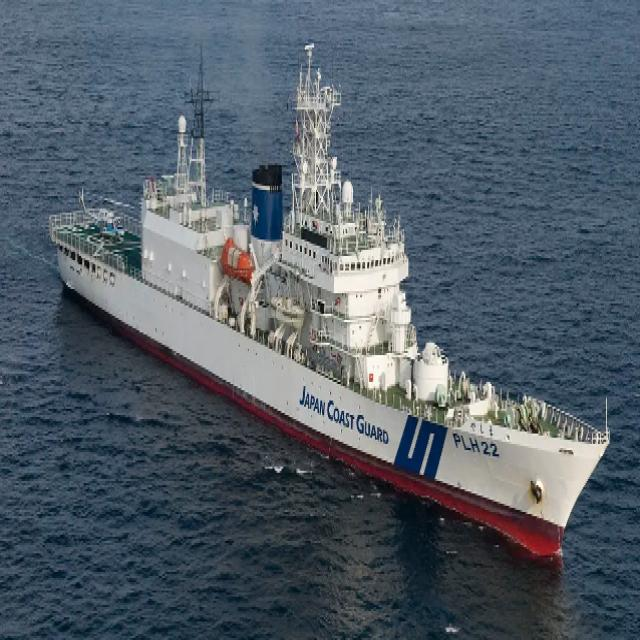navalvessels: (47, 43, 612, 566)
